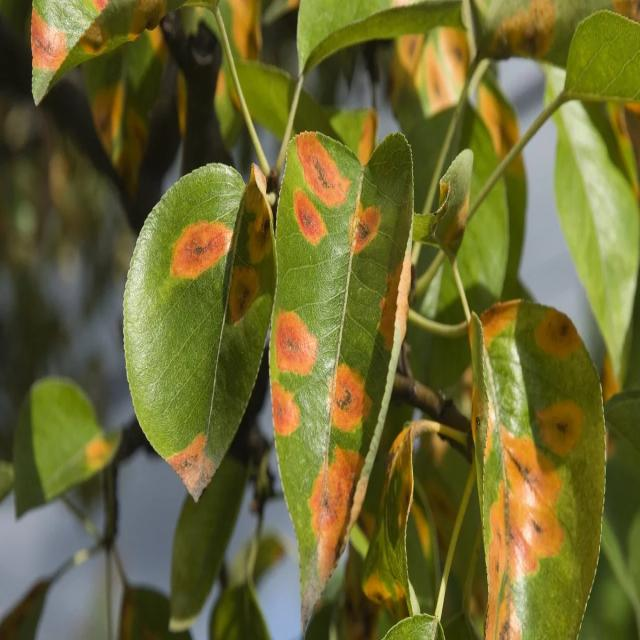leaf_rust: (270, 132, 414, 628), (124, 164, 273, 498), (470, 300, 604, 639)
